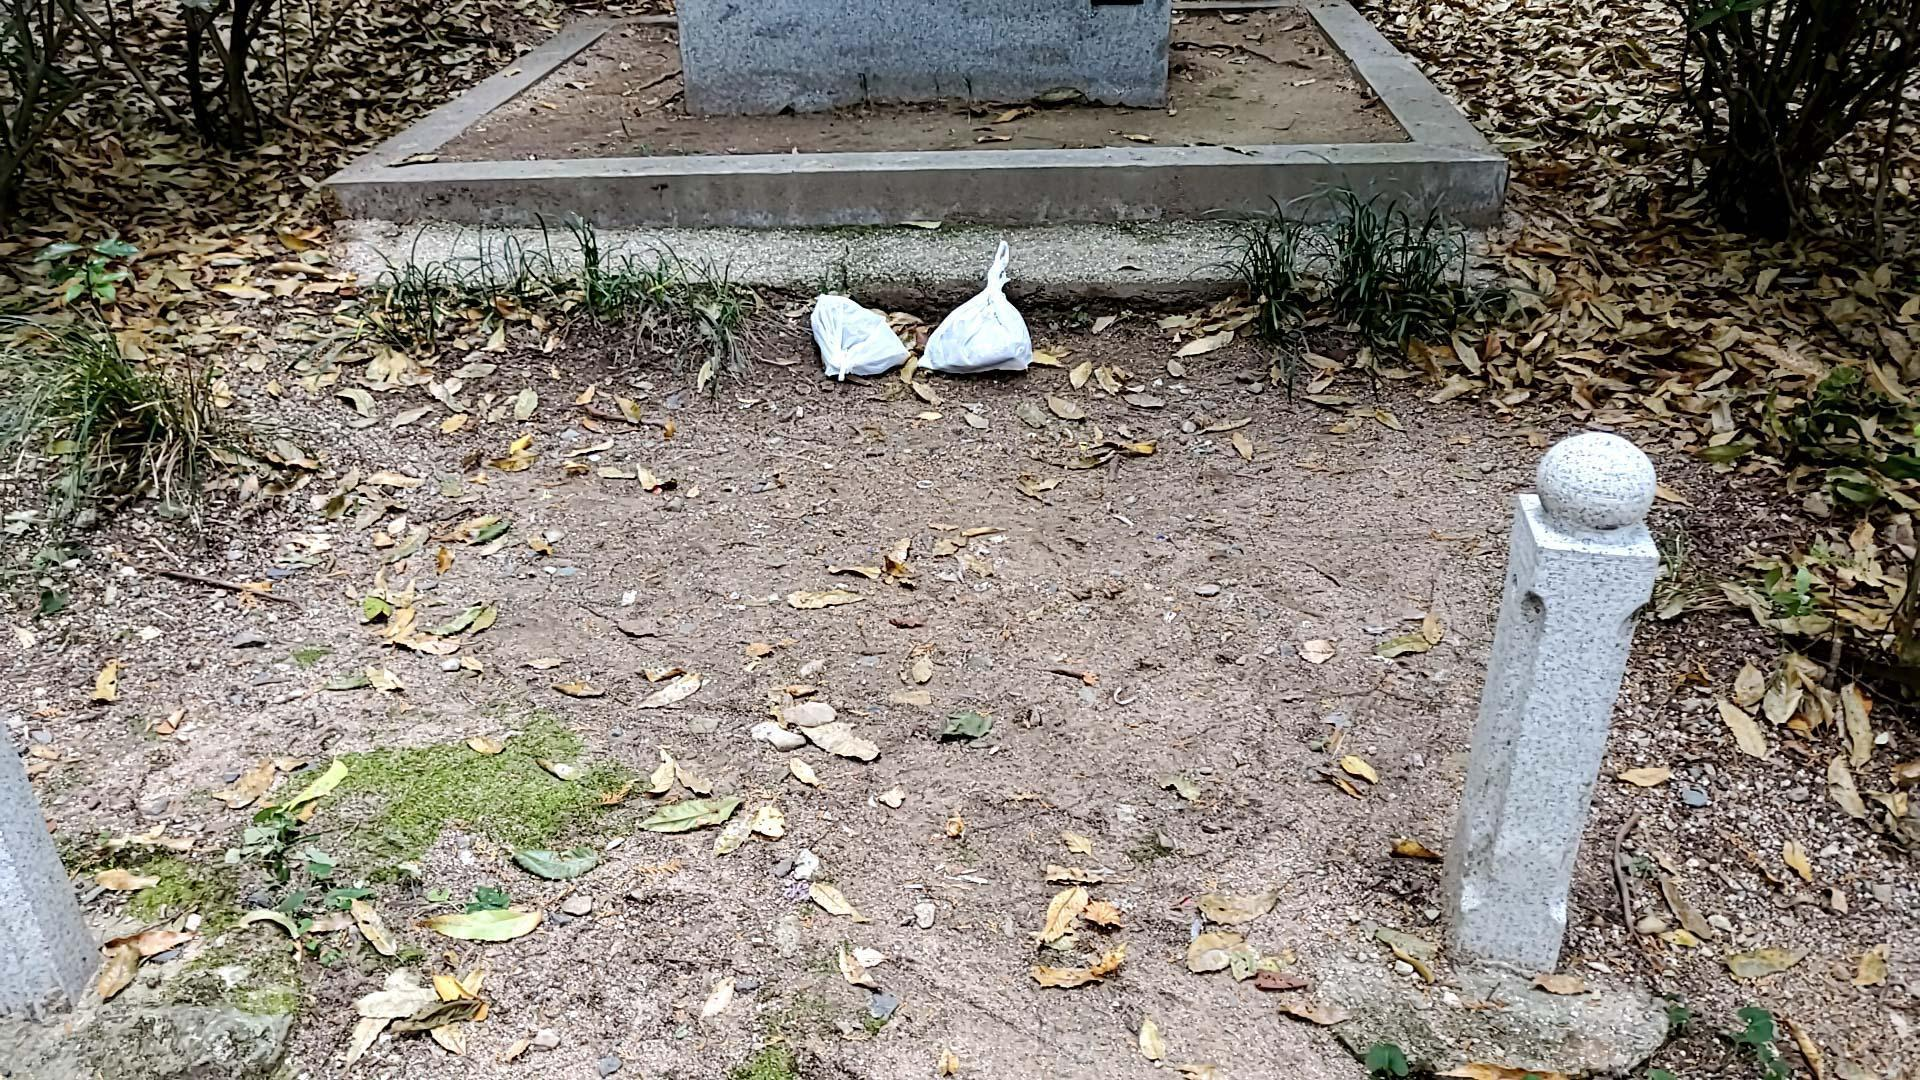white_bag: (909, 240, 1042, 378), (793, 284, 916, 392)
